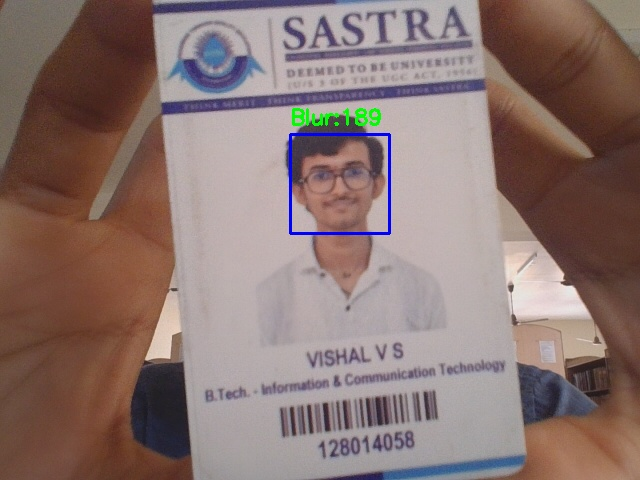fake: (290, 134, 389, 233)
